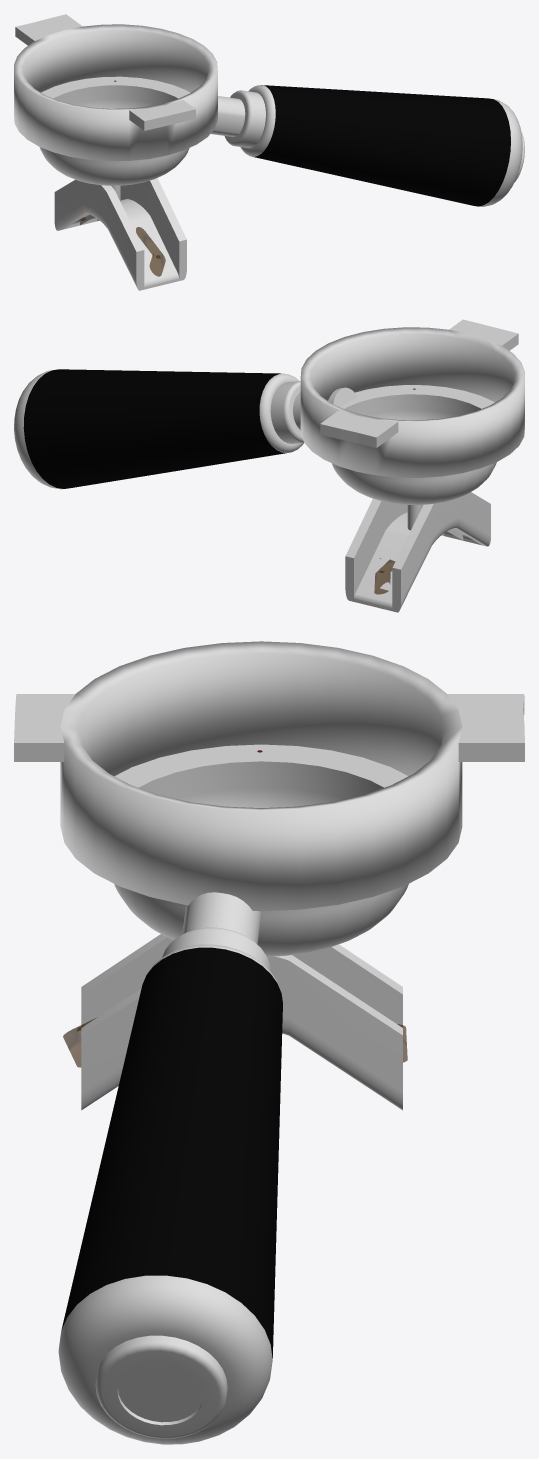
The model's file is ESPRESSOPORTAFILTERwithanimation.glb.
3 views of the same model, one above another, from view 1: azimuth 30°, elevation 25°; view 2: azimuth 150°, elevation 25°; view 3: azimuth 270°, elevation 25° (orthographic). The views are drawn at different scales.
Parts seen in each view (by area): view 1: Circle.002_Circle.007, Circle.002_Circle.002, Circle.002_Circle.001, Plane.001; view 2: Circle.002_Circle.007, Circle.002_Circle.002, Circle.002_Circle.001, Plane; view 3: Circle.002_Circle.007, Circle.002_Circle.002, Circle.002_Circle.001.
Boxes of the visible parts, x1=… form: Circle.002_Circle.007: x1=14, y1=14, x2=217, y2=201; Circle.002_Circle.002: x1=211, y1=85, x2=524, y2=206; Circle.002_Circle.001: x1=54, y1=178, x2=186, y2=290; Plane.001: x1=136, y1=227, x2=165, y2=276; Circle.002_Circle.007: x1=300, y1=319, x2=524, y2=530; Circle.002_Circle.002: x1=14, y1=369, x2=356, y2=489; Circle.002_Circle.001: x1=345, y1=492, x2=490, y2=612; Plane: x1=374, y1=559, x2=394, y2=594; Circle.002_Circle.007: x1=14, y1=641, x2=524, y2=956; Circle.002_Circle.002: x1=58, y1=892, x2=282, y2=1444; Circle.002_Circle.001: x1=81, y1=934, x2=402, y2=1110.
Size of the model in its own units: 4.92 by 2.02 by 2.38.
Materials: 4 (1 with a texture image).
